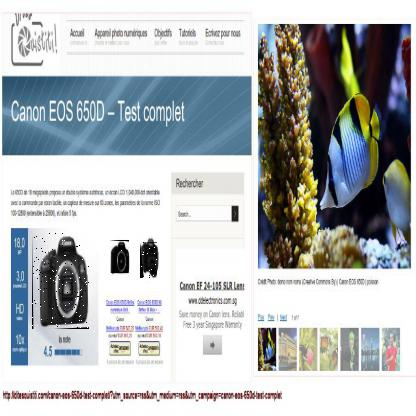Camera: (33, 234, 91, 331), (110, 241, 131, 275), (141, 243, 159, 280)
